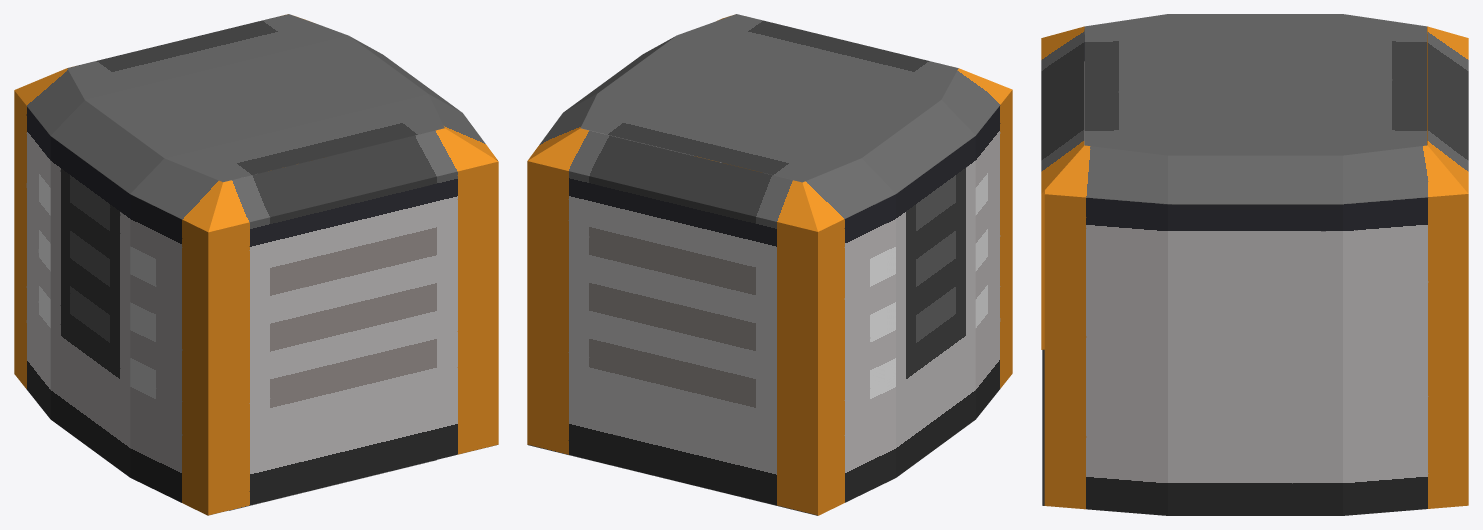
3 views of the same model, side by side, from view 1: azimuth 30°, elevation 25°; view 2: azimuth 150°, elevation 25°; view 3: azimuth 270°, elevation 25° (orthographic). The views are drawn at different scales.
Visible parts, largest first — view 1: Box_top2; view 2: Box_top2; view 3: Box_top2.
Boxes of the visible parts, x1,y1,x2,y2 form: Box_top2: [14, 14, 498, 515]; Box_top2: [527, 14, 1012, 515]; Box_top2: [1041, 14, 1468, 515].
Bounding box in the file's own units: 1.19 × 1.06 × 1.2.
